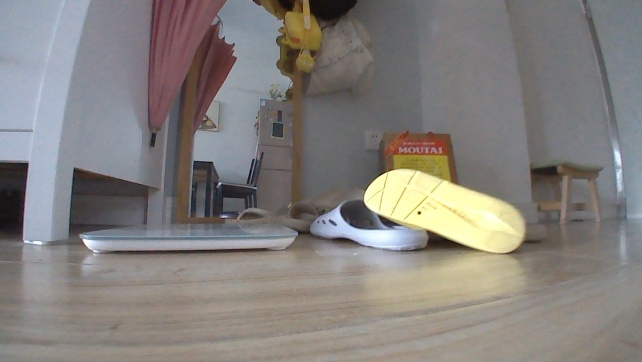dining_table: (190, 151, 265, 217)
refrigerator: (255, 97, 293, 217)
slipper: (309, 196, 432, 251)
weight_scale: (78, 221, 300, 255)
